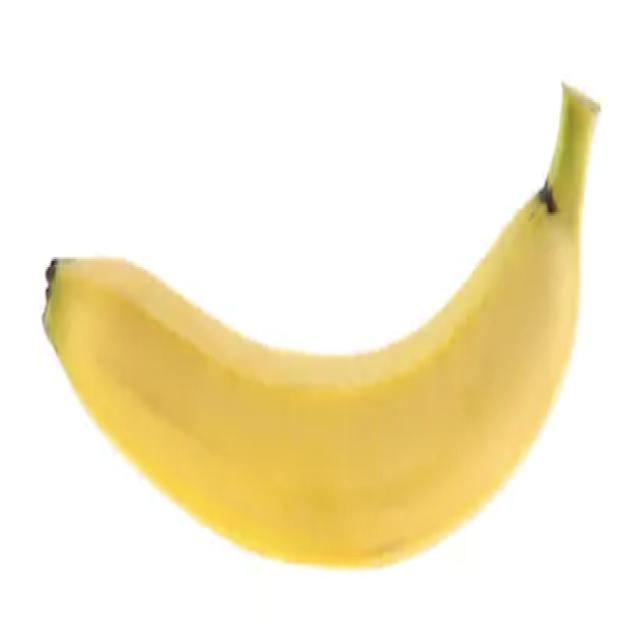fresh-banana: (41, 78, 602, 570)
